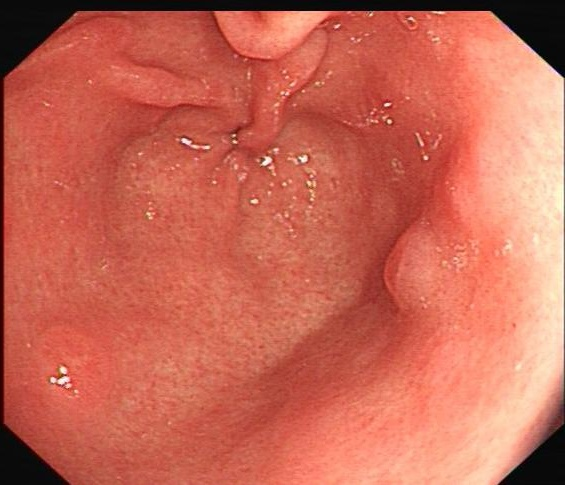Polyp: (371, 218, 456, 319)
